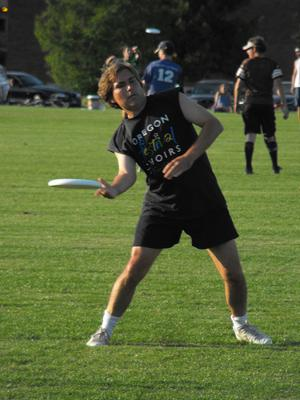person: (86, 59, 272, 348)
